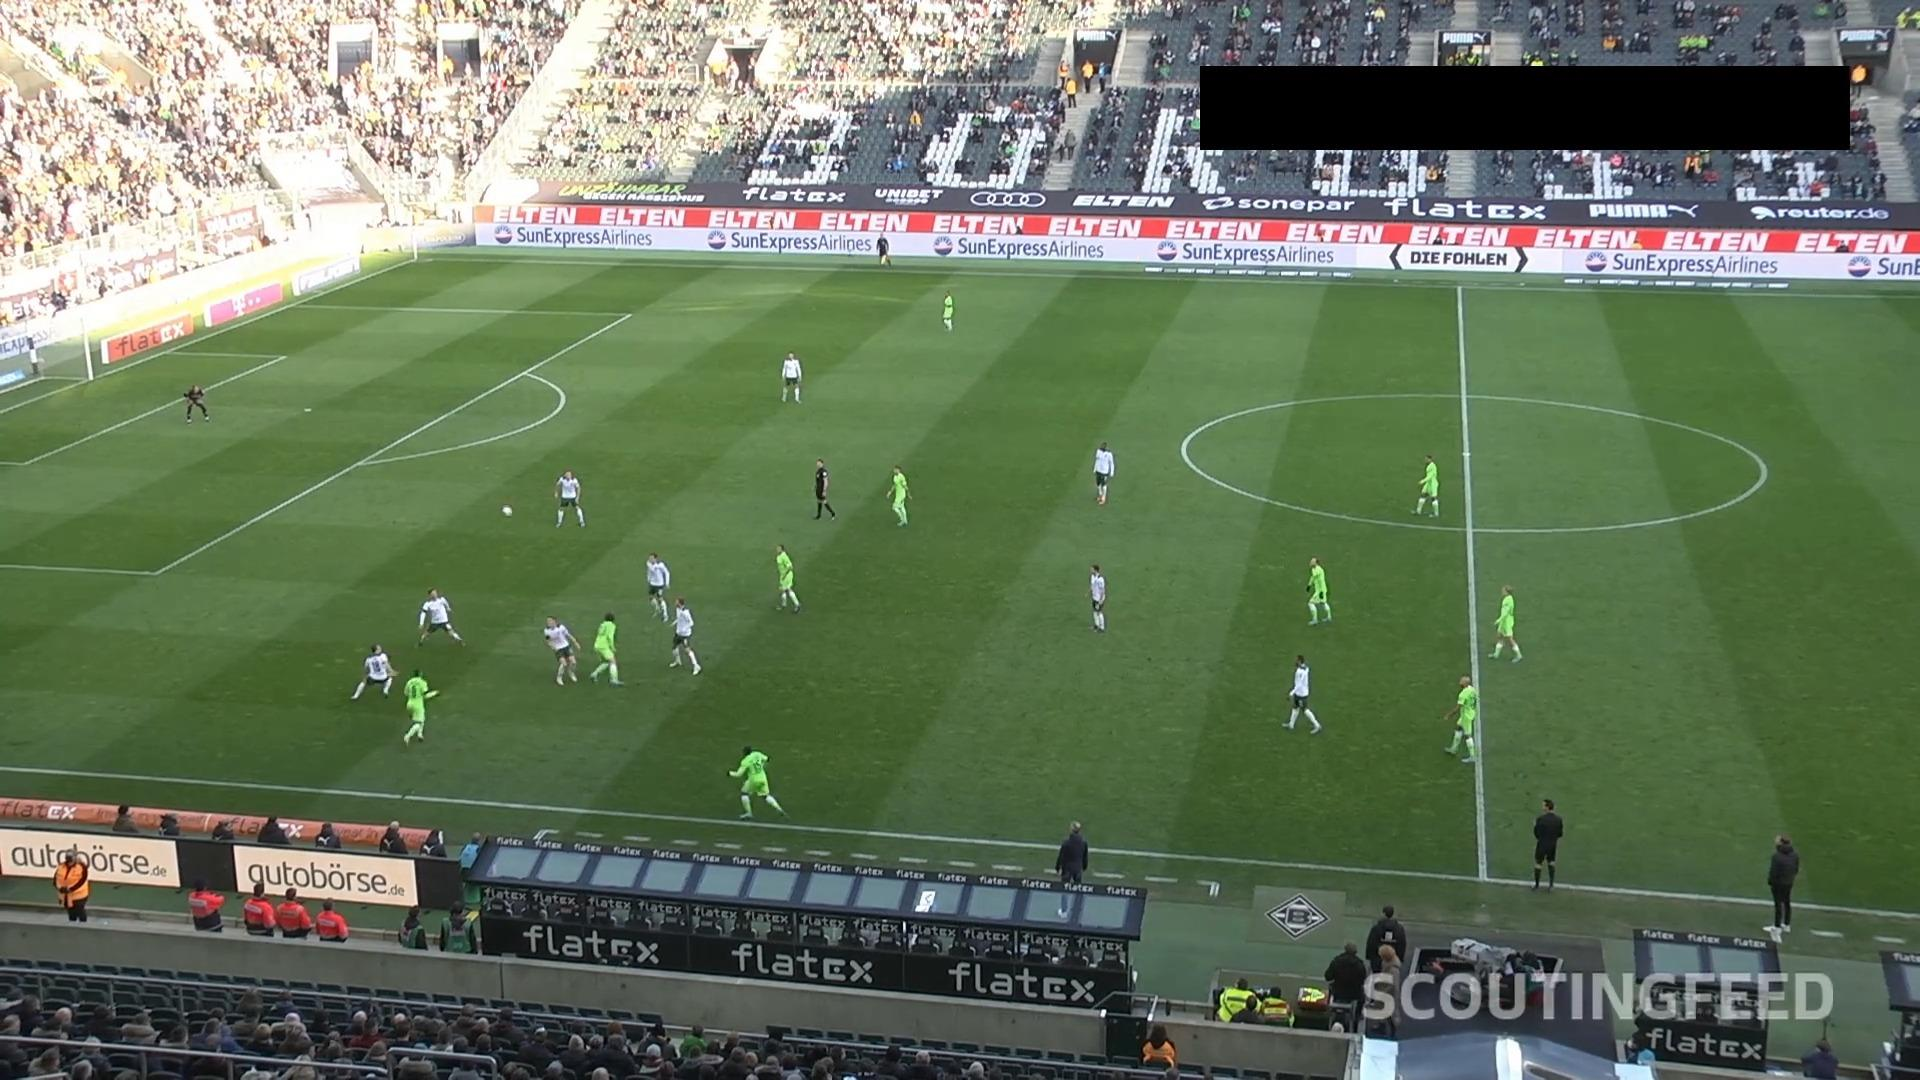ball: (501, 506, 512, 516)
coach: (1766, 834, 1799, 932), (1054, 820, 1088, 915)
player: (726, 745, 787, 820), (1281, 653, 1321, 734), (1442, 674, 1477, 760), (401, 666, 439, 745), (416, 587, 464, 648), (541, 615, 580, 686), (666, 596, 701, 675), (587, 611, 624, 685), (350, 643, 397, 700), (1488, 584, 1522, 662), (773, 543, 801, 613), (1304, 555, 1332, 624), (553, 469, 584, 528), (644, 552, 670, 621), (1411, 454, 1439, 517), (885, 465, 911, 526), (1092, 440, 1114, 505), (1088, 563, 1107, 631), (779, 351, 802, 403), (182, 383, 209, 422), (940, 291, 954, 331)
referee: (1530, 798, 1562, 891), (812, 457, 835, 520), (874, 230, 902, 273)
